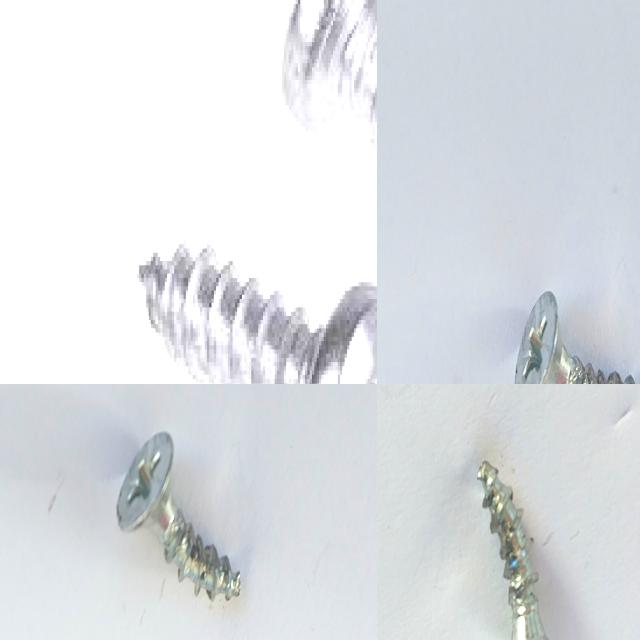Screw: (134, 240, 377, 384), (117, 431, 241, 600), (279, 0, 377, 157), (478, 460, 550, 640), (515, 291, 636, 384)
